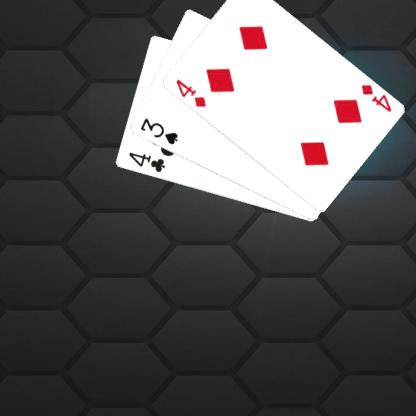3S: (137, 115, 179, 146)
4C: (125, 150, 166, 174)
4D: (172, 76, 208, 108), (358, 82, 392, 113)
